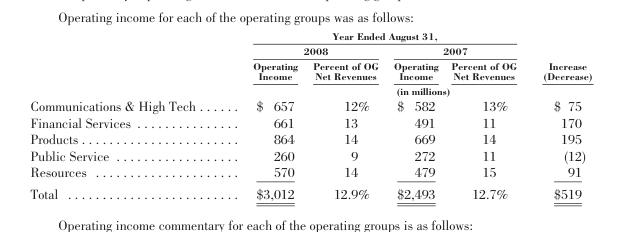table: (29, 28, 591, 200)
table column: (29, 28, 223, 200), (444, 28, 529, 200), (223, 28, 304, 200), (304, 28, 385, 200), (529, 28, 591, 200), (385, 28, 444, 200)
table column header: (29, 28, 591, 97)
table row: (29, 57, 591, 82), (29, 163, 591, 182), (29, 182, 591, 200), (29, 97, 591, 114), (29, 146, 591, 163), (29, 114, 591, 130), (29, 130, 591, 146), (29, 42, 591, 57), (29, 82, 591, 97), (29, 28, 591, 42)
table spanning cell: (223, 82, 591, 97), (223, 28, 529, 42), (529, 28, 591, 82), (223, 42, 385, 57), (385, 42, 529, 57)
